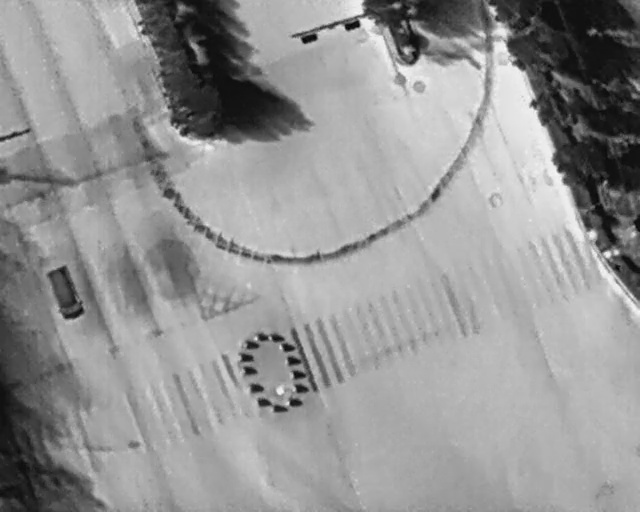Car: (43, 262, 88, 323)
